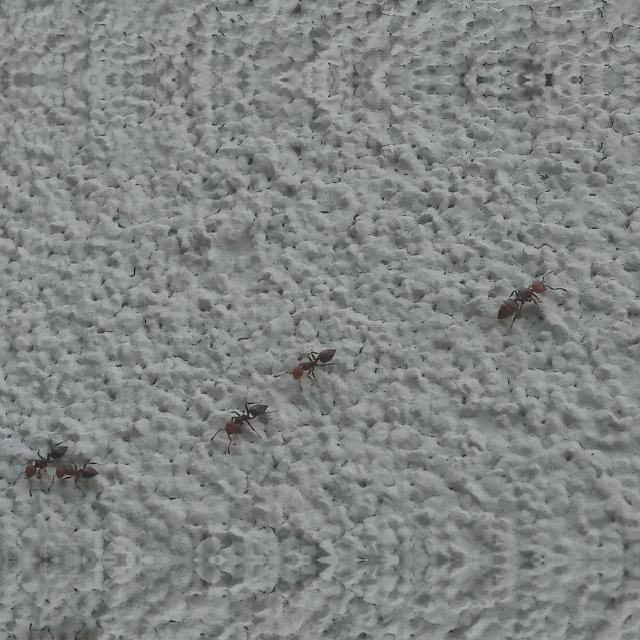Crematogaster: (490, 276, 550, 322), (15, 442, 66, 486), (212, 400, 270, 438), (287, 341, 337, 384), (57, 459, 101, 488), (57, 631, 101, 640)
